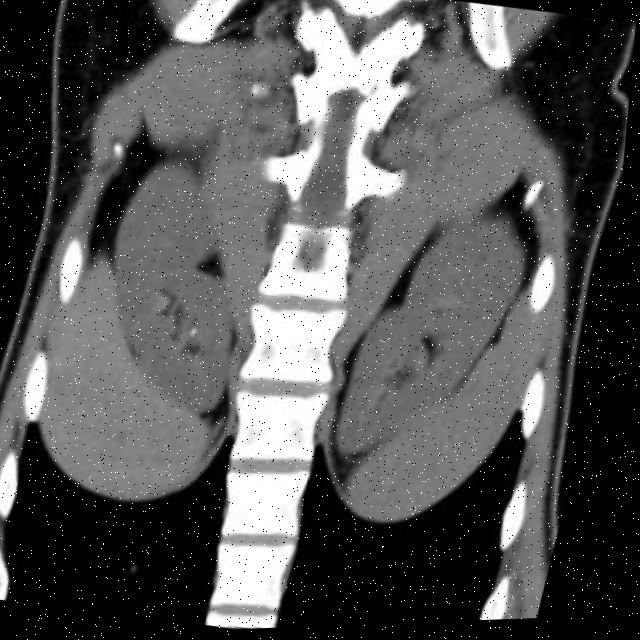Tas_Var: (188, 324, 207, 345)
